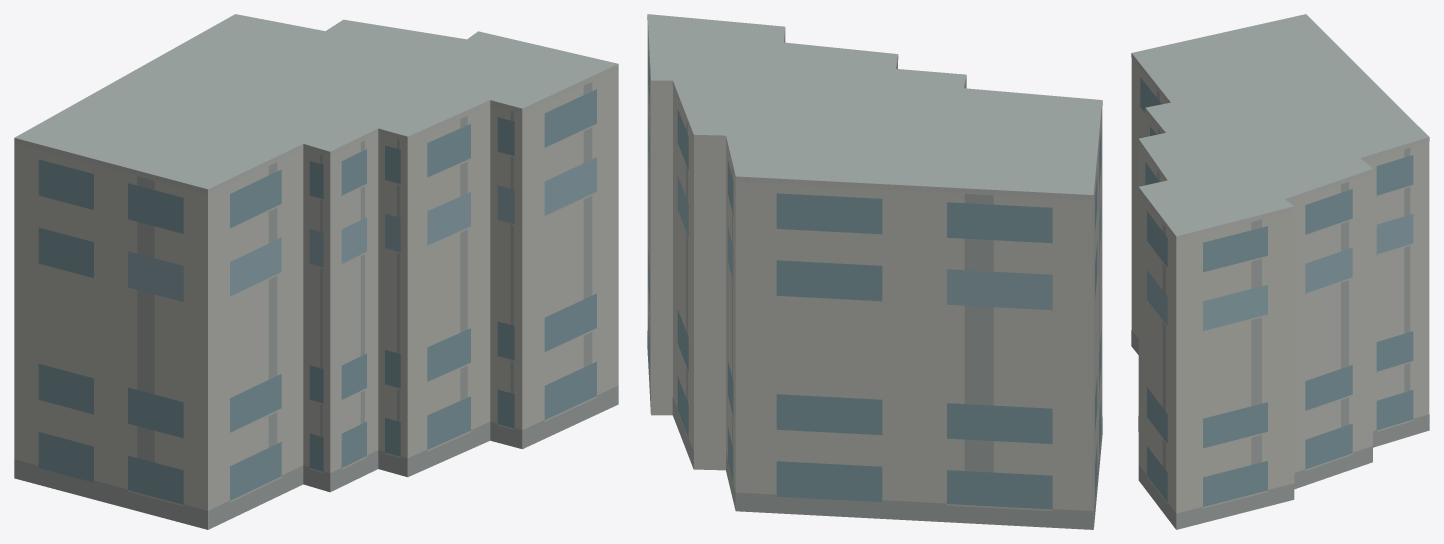
File: survey-upis-32820437.glb
3 views of the same model, side by side, from view 1: azimuth 30°, elevation 25°; view 2: azimuth 150°, elevation 25°; view 3: azimuth 270°, elevation 25° (orthographic). The views are drawn at different scales.
Visible parts, largest first — view 1: survey-upis-32820437.tmp; view 2: survey-upis-32820437.tmp; view 3: survey-upis-32820437.tmp.
Part boxes in pixels (left/top/right/bottom): survey-upis-32820437.tmp: left=14, top=14, right=618, bottom=529; survey-upis-32820437.tmp: left=647, top=14, right=1102, bottom=529; survey-upis-32820437.tmp: left=1131, top=14, right=1429, bottom=529.
Bounding box in the file's own units: 24.4 × 15 × 13.81.
